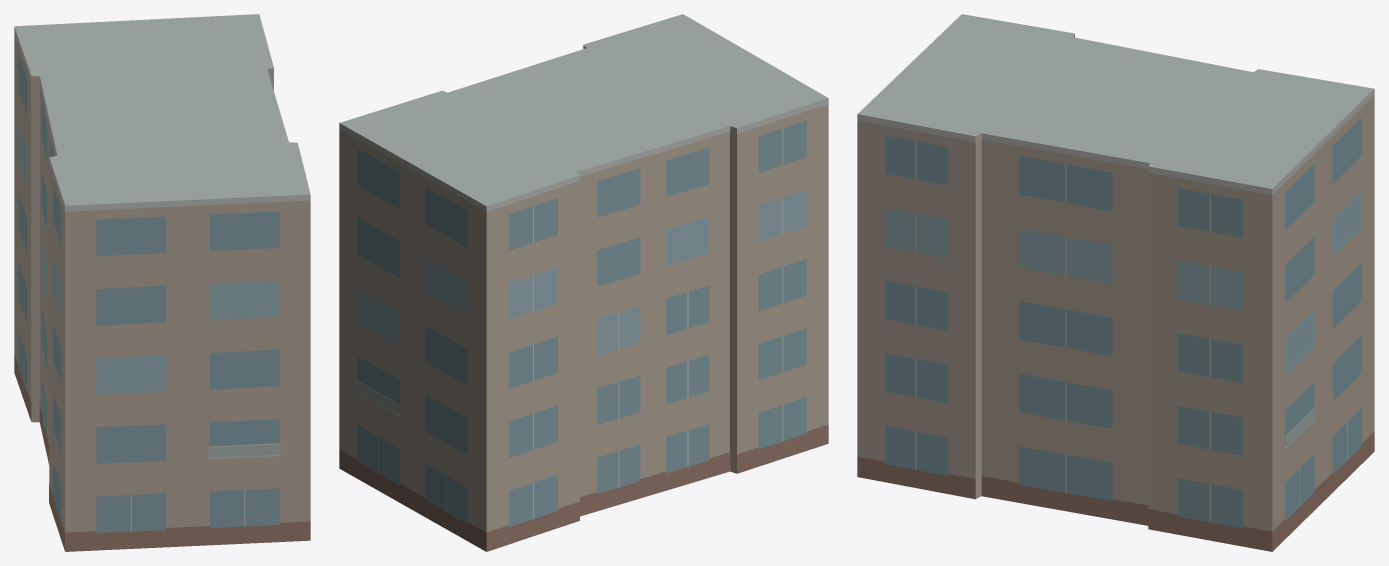
Rendered from survey-upis-32850567.glb.
3 views of the same model, side by side, from view 1: azimuth 30°, elevation 25°; view 2: azimuth 150°, elevation 25°; view 3: azimuth 270°, elevation 25° (orthographic). The views are drawn at different scales.
Visible parts, largest first — view 1: survey-upis-32850567.tmp; view 2: survey-upis-32850567.tmp; view 3: survey-upis-32850567.tmp.
Boxes of the visible parts, x1,y1,x2,y2 form: survey-upis-32850567.tmp: (14, 14, 310, 551); survey-upis-32850567.tmp: (339, 14, 828, 551); survey-upis-32850567.tmp: (857, 14, 1374, 551).
Bounding box in the file's own units: 14.7 × 14.2 × 18.35.
